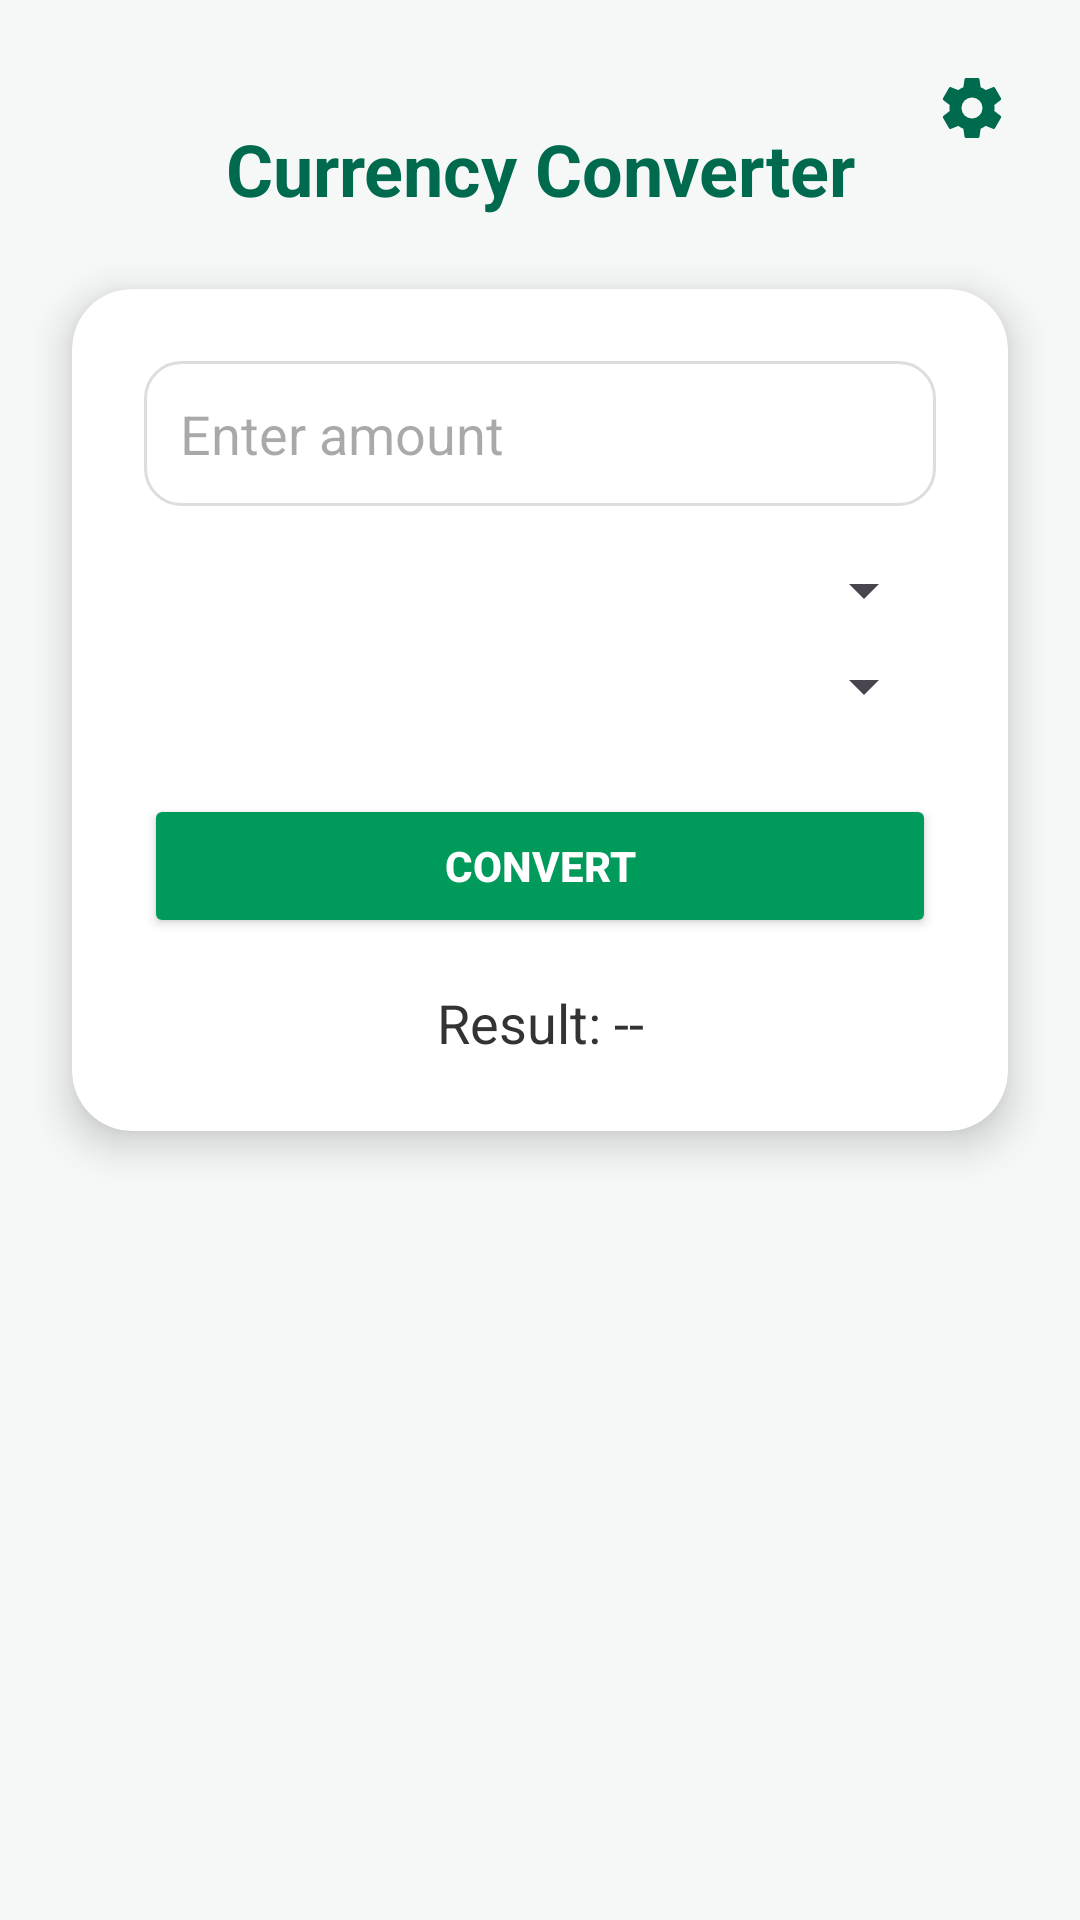

Icons on this 1080*1920 Android screen, each with its box as BBox(x1, y1, x2, y2):
settings: BBox(942, 78, 1002, 138)
